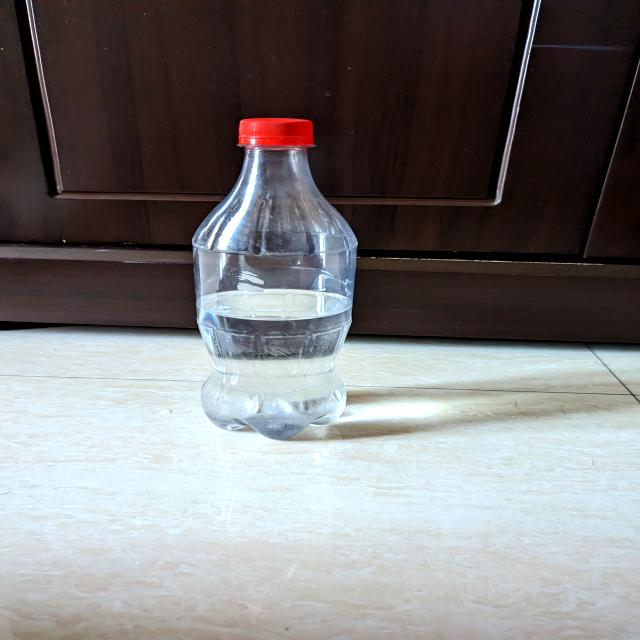half-bottle: (178, 110, 378, 450)
